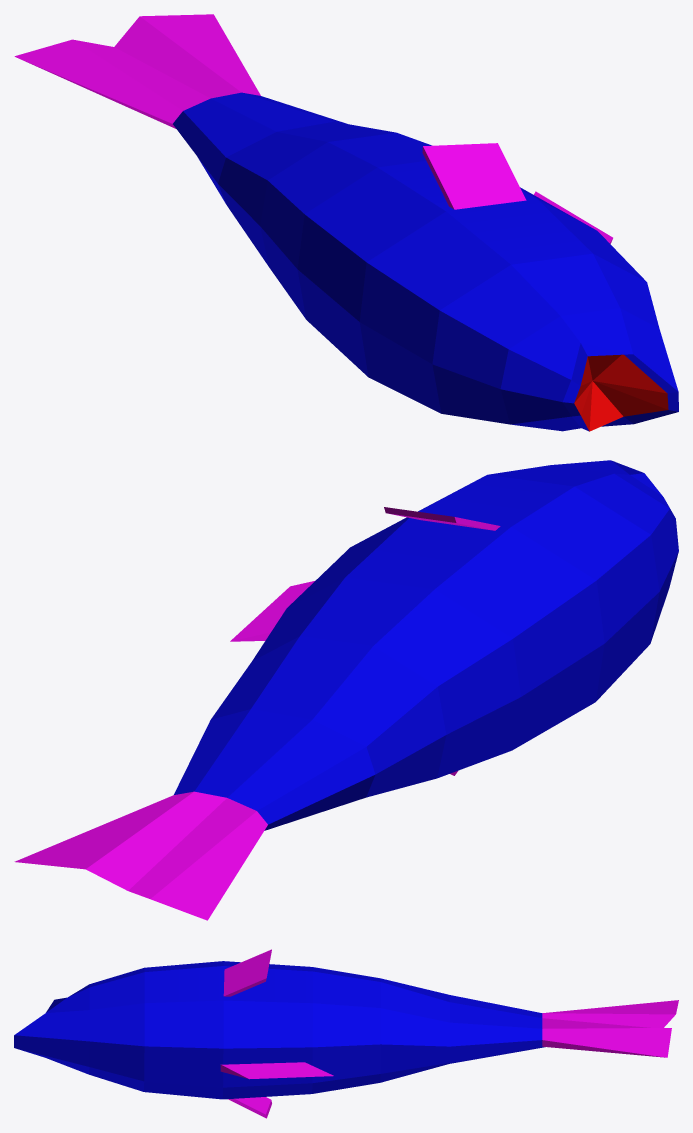
The model's file is fish_low.fbx.
3 renders of one model, top to bottom at view 1: azimuth 30°, elevation 25°; view 2: azimuth 150°, elevation 25°; view 3: azimuth 270°, elevation 25°, orthographic. The views are drawn at different scales.
Parts seen in each view (by area): view 1: polySurface4, polySurface2; view 2: polySurface4, polySurface5, polySurface2; view 3: polySurface4, polySurface5, polySurface2, polySurface3.
Part boxes in pixels (bbox=[...]): polySurface4: bbox=[14, 14, 678, 431]; polySurface2: bbox=[422, 143, 526, 209]; polySurface4: bbox=[14, 460, 678, 920]; polySurface5: bbox=[230, 581, 314, 641]; polySurface2: bbox=[384, 507, 500, 530]; polySurface4: bbox=[14, 961, 678, 1099]; polySurface5: bbox=[220, 1062, 333, 1079]; polySurface2: bbox=[223, 949, 271, 996]; polySurface3: bbox=[228, 1097, 271, 1118].
Bounding box in the file's own units: 0.5992 × 0.508 × 1.98.
